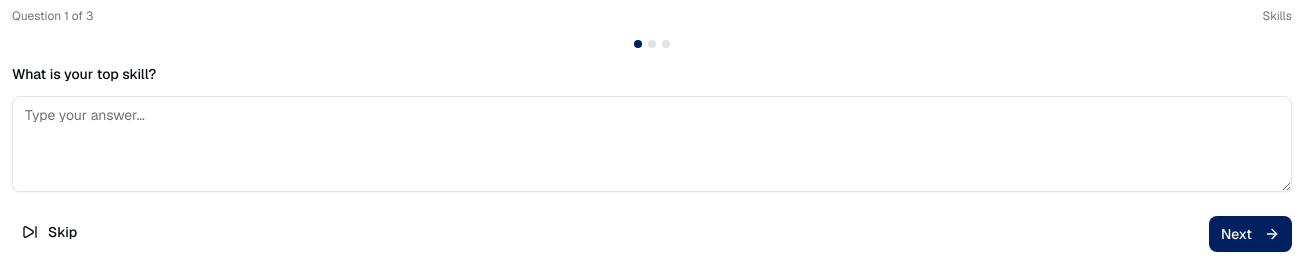
it: StepQuestions › navigates forward and shows Previous button
This screenshot has width=1304, height=269.
Type "React" into the text box with placeholder "Type your answer...".
click(652, 144); type("React")  # box [12,96,1292,192]
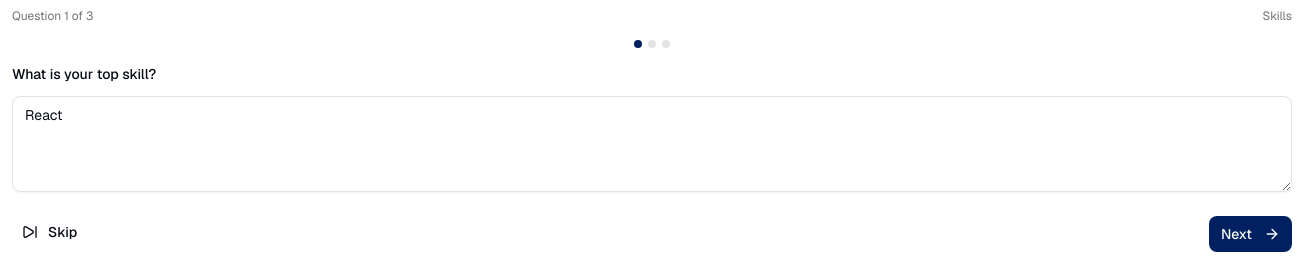
Click the button "Next".
click(1250, 234)  # box [1209,216,1292,252]
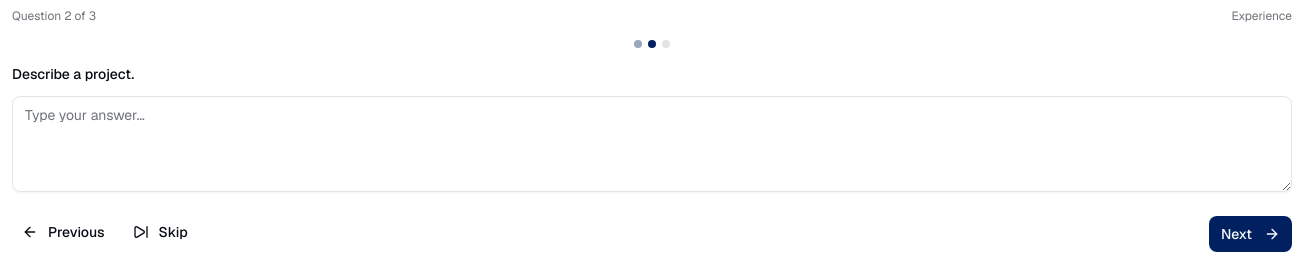
Check: the text "Describe a project." is shown, box [12,65,134,83]
Check: the text "Question 2 of 3" is shown, box [12,8,96,24]
Check: the button "Previous" is shown, box [12,216,114,248]
